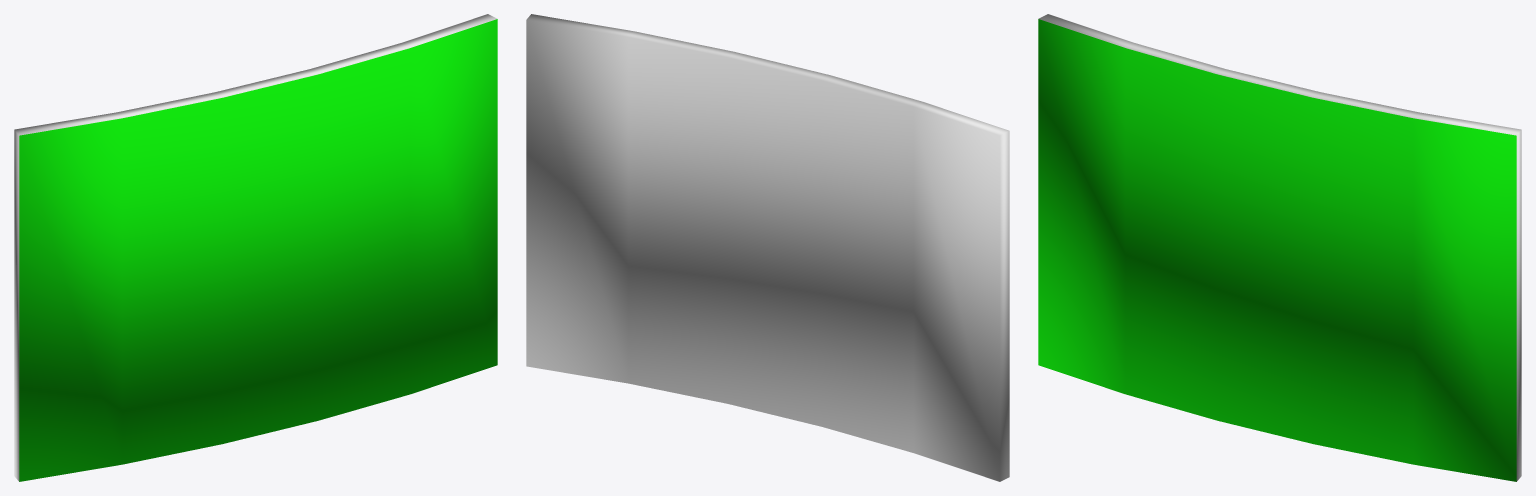
The model's file is monitor.glb.
The picture shows the model from 3 angles, left to right: view 1: azimuth 30°, elevation 25°; view 2: azimuth 150°, elevation 25°; view 3: azimuth 330°, elevation 25°; orthographic projection.
Parts seen in each view (by area): view 1: Cube; view 2: Cube; view 3: Cube.
Boxes of the visible parts, box(x1,y1,x2,y2) form: Cube: box(14, 14, 497, 481); Cube: box(526, 14, 1009, 481); Cube: box(1038, 14, 1521, 481).
Bounding box in the file's own units: 3.54 × 2.45 × 0.2503.
